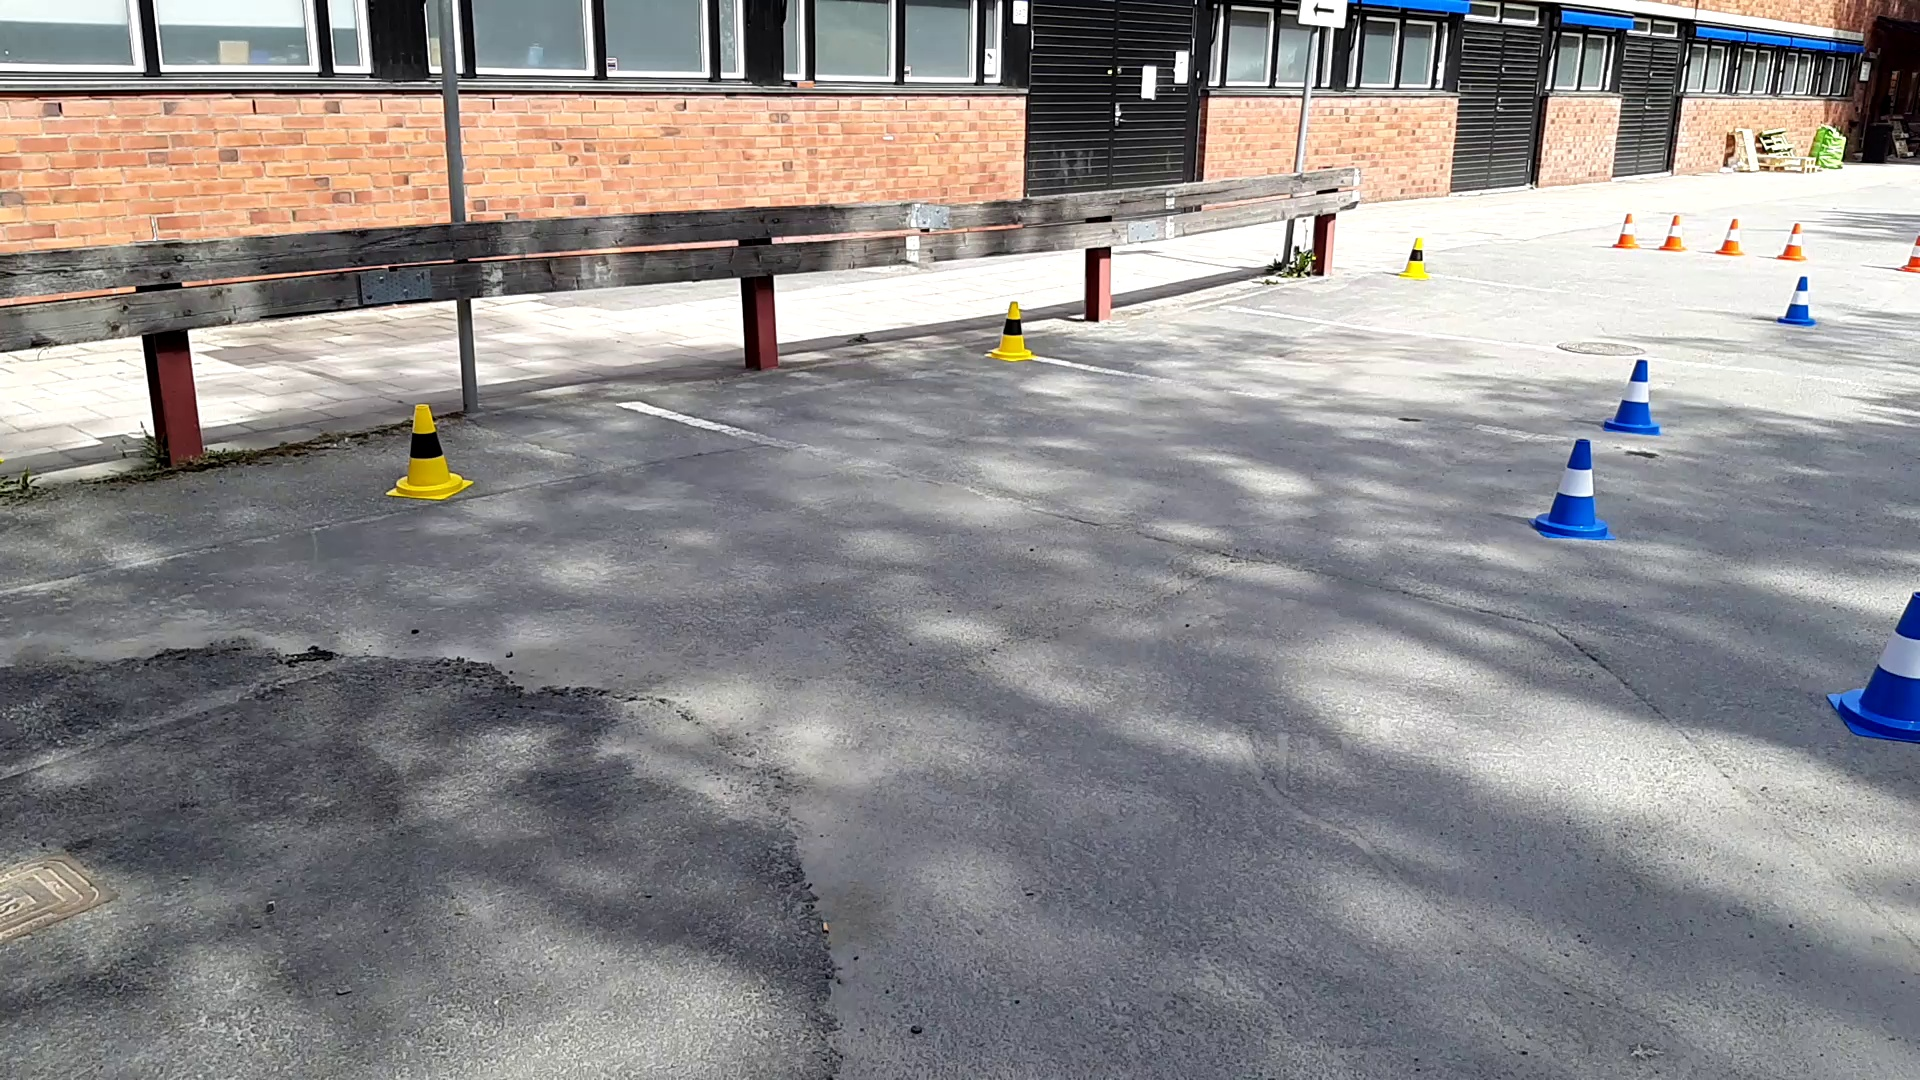Cone: (1828, 592, 1920, 738), (382, 401, 468, 506), (1528, 438, 1614, 543), (1604, 355, 1664, 436), (989, 297, 1040, 363), (1776, 272, 1820, 326), (1396, 236, 1435, 282)
